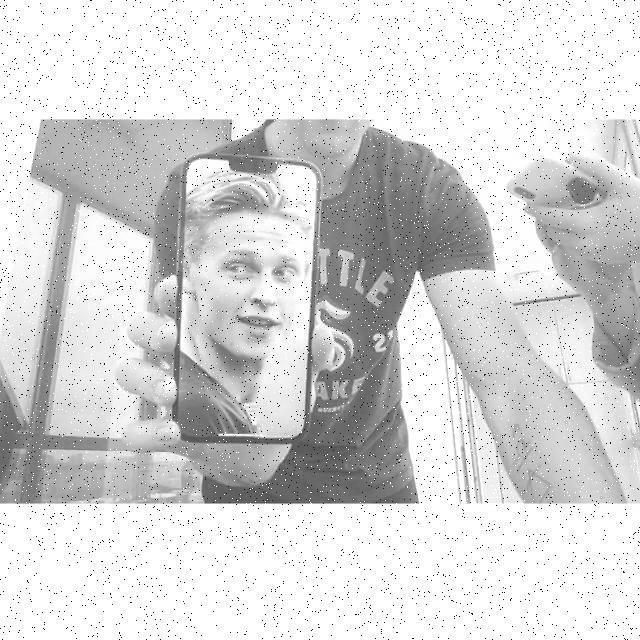fake: (164, 152, 326, 450)
